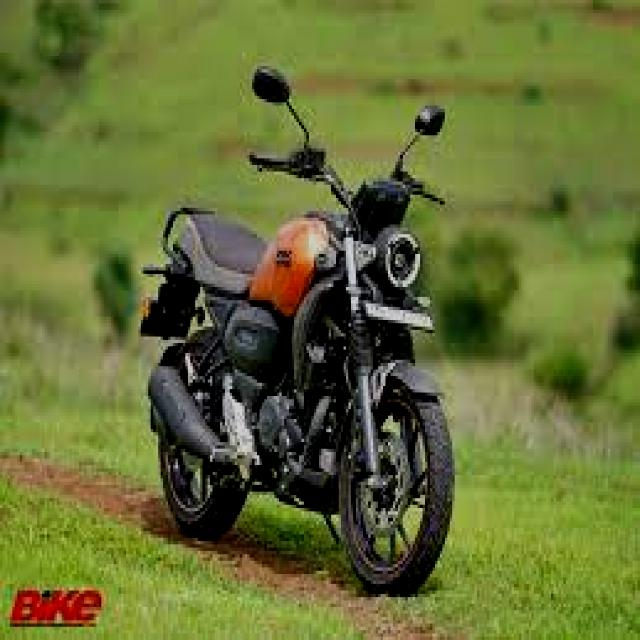MOTORCYCLE: (139, 140, 452, 605)
